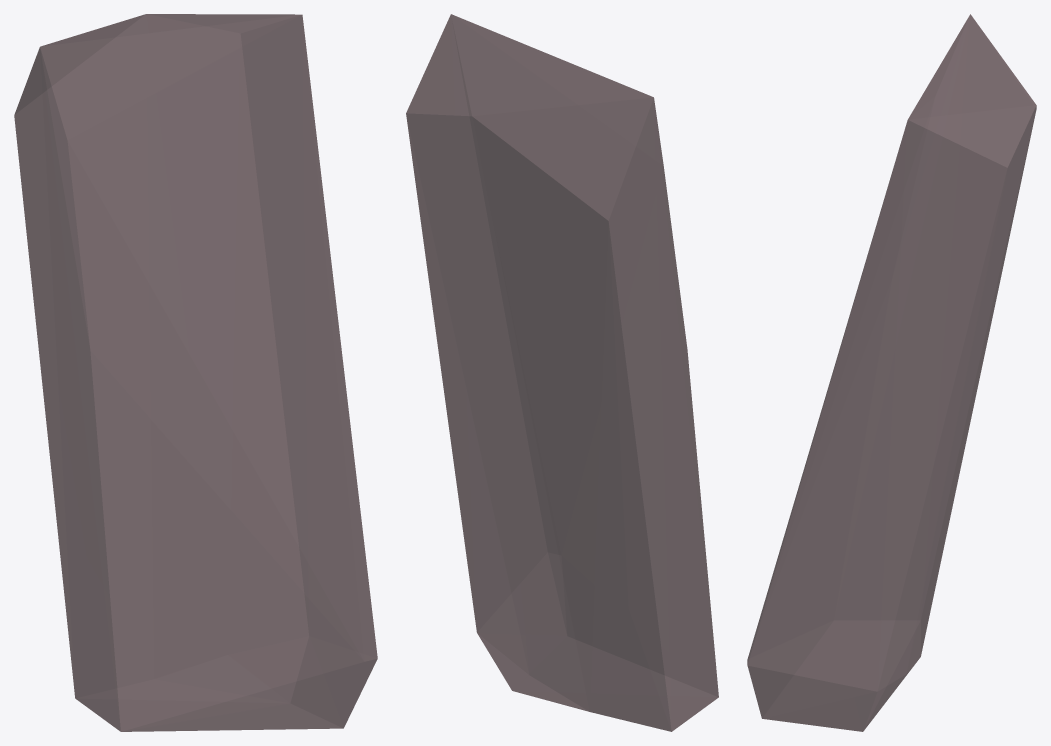
The picture shows the model from 3 angles, left to right: view 1: azimuth 30°, elevation 25°; view 2: azimuth 150°, elevation 25°; view 3: azimuth 270°, elevation 25°; orthographic projection. The views are drawn at different scales.
Visible parts, largest first — view 1: Shape_IndexedFaceSet.039_Shape_IndexedFaceSet.4385; view 2: Shape_IndexedFaceSet.039_Shape_IndexedFaceSet.4385; view 3: Shape_IndexedFaceSet.039_Shape_IndexedFaceSet.4385.
Boxes of the visible parts, left/top/right/bottom form: Shape_IndexedFaceSet.039_Shape_IndexedFaceSet.4385: left=14, top=14, right=377, bottom=731; Shape_IndexedFaceSet.039_Shape_IndexedFaceSet.4385: left=406, top=14, right=718, bottom=731; Shape_IndexedFaceSet.039_Shape_IndexedFaceSet.4385: left=747, top=14, right=1036, bottom=731.
Size of the model in its own units: 0.1111 by 0.3068 by 0.1278.
